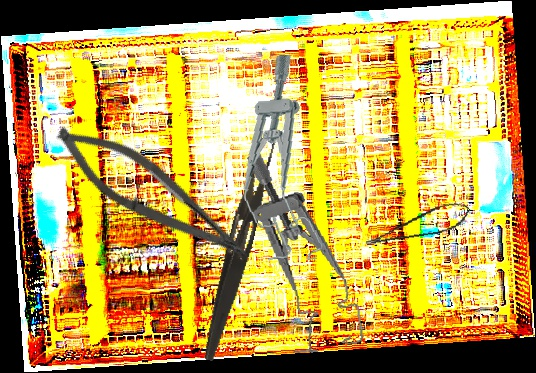Dressing Forceps: (200, 135, 277, 364)
Micro Scissor: (41, 111, 267, 275), (361, 198, 474, 250)
Speculum: (244, 142, 366, 359), (231, 53, 325, 265)
